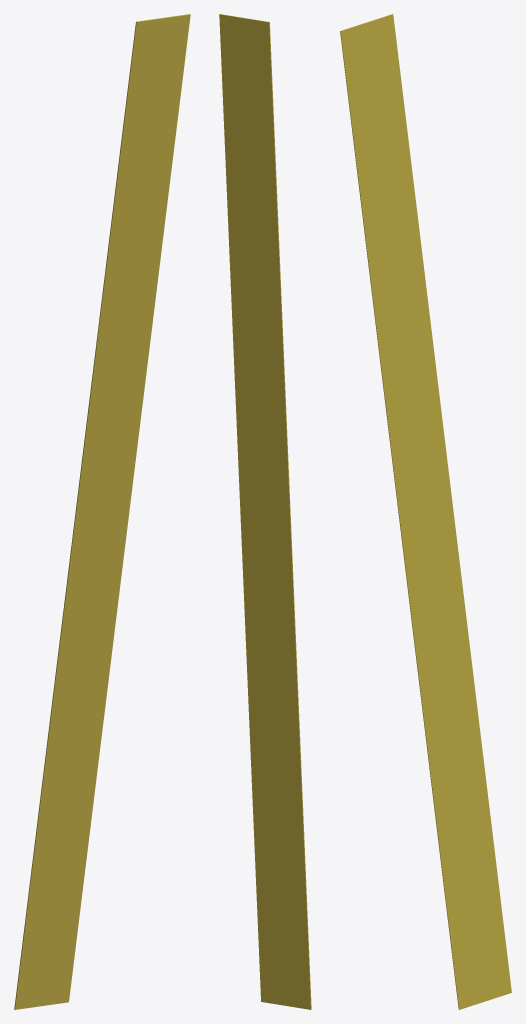
Rendered from post-box-2-volume-candidate.glb.
3 views of the same model, side by side, from view 1: azimuth 90°, elevation 25°; view 2: azimuth 210°, elevation 25°; view 3: azimuth 270°, elevation 25° (orthographic). The views are drawn at different scales.
Visible parts, largest first — view 1: post-box-2-closed-extrusion-hypothesis; view 2: post-box-2-closed-extrusion-hypothesis; view 3: post-box-2-closed-extrusion-hypothesis.
Boxes of the visible parts, x1=… form: post-box-2-closed-extrusion-hypothesis: x1=14, y1=14, x2=190, y2=1009; post-box-2-closed-extrusion-hypothesis: x1=219, y1=14, x2=311, y2=1009; post-box-2-closed-extrusion-hypothesis: x1=340, y1=14, x2=511, y2=1009.
Bounding box in the file's own units: 0.1215 × 2.68 × 0.4275.
